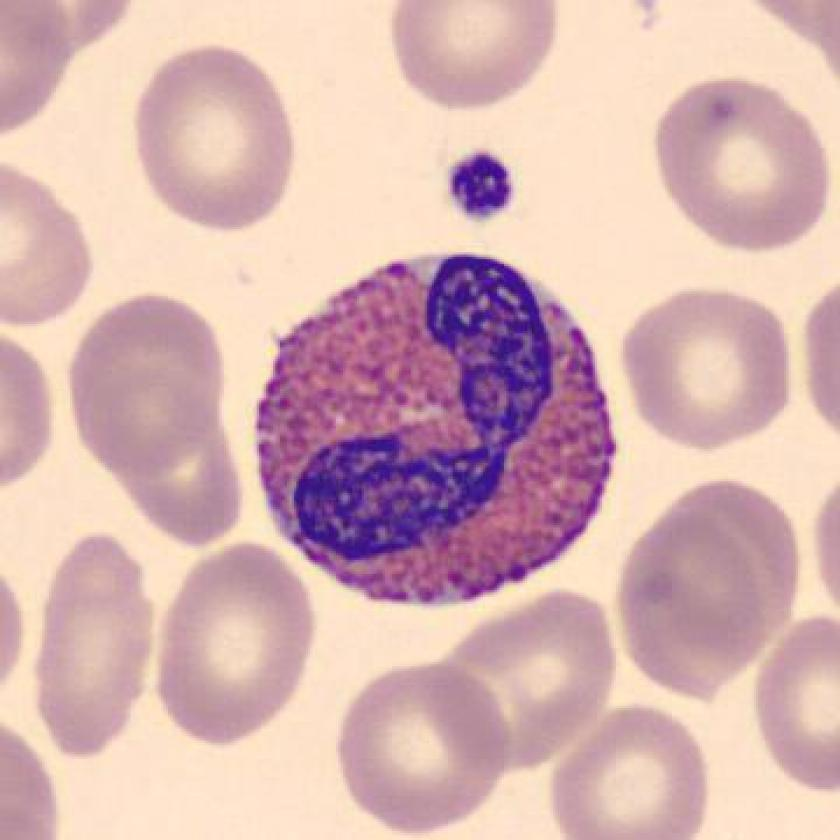eosinophil: (242, 244, 627, 621)
